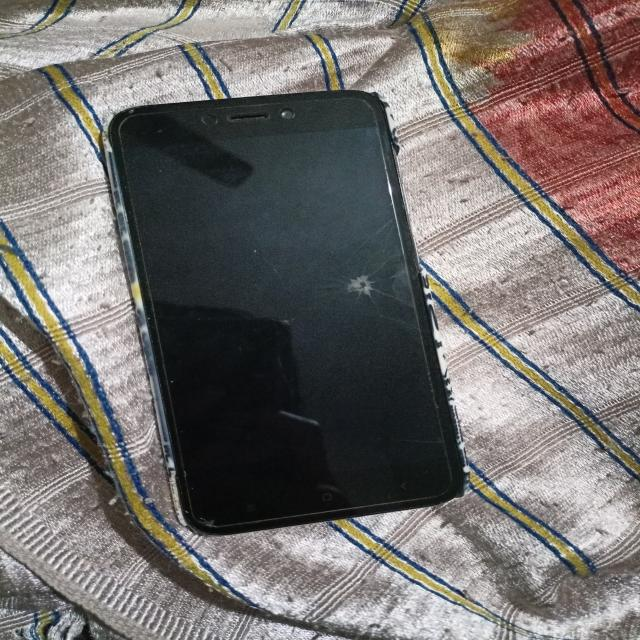Crack: (340, 273, 380, 311)
